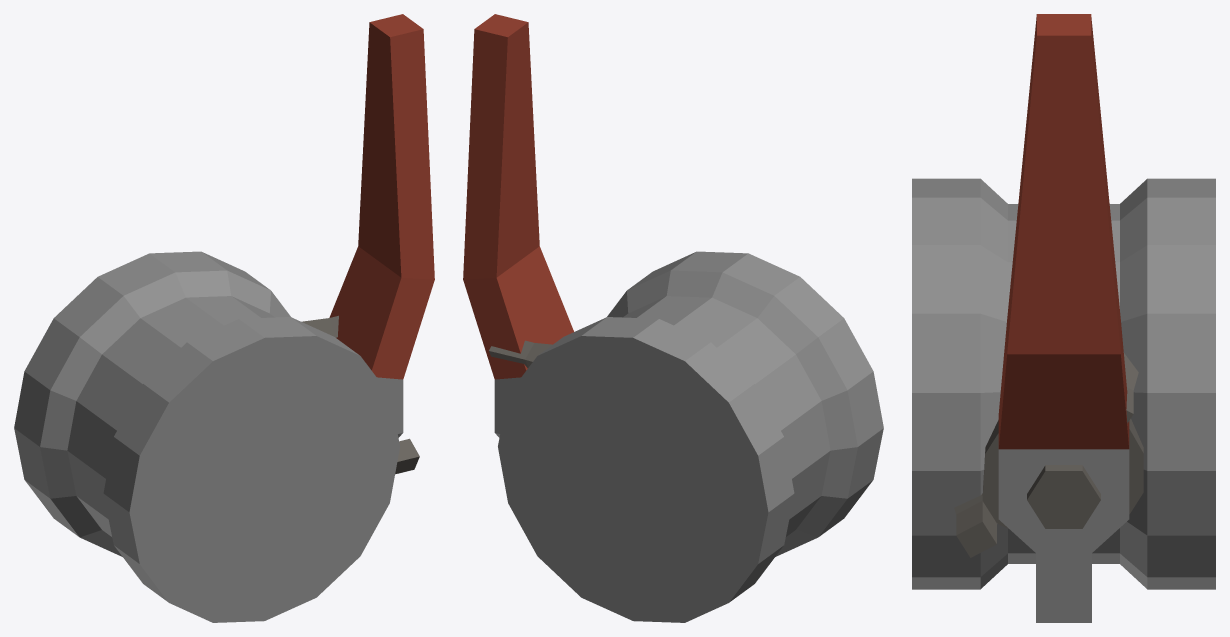
The model's file is Steam_Prop_Valve_Left.FBX.
3 views of the same model, side by side, from view 1: azimuth 30°, elevation 25°; view 2: azimuth 150°, elevation 25°; view 3: azimuth 270°, elevation 25° (orthographic). The views are drawn at different scales.
Visible parts, largest first — view 1: Valve_Left, ValveHandle; view 2: Valve_Left, ValveHandle; view 3: Valve_Left, ValveHandle.
Boxes of the visible parts, x1,y1,x2,y2 form: Valve_Left: (14,251,419,622); ValveHandle: (329,14,434,437); Valve_Left: (489,251,883,622); ValveHandle: (463,14,573,437); Valve_Left: (912,178,1215,589); ValveHandle: (998,14,1129,622).
Bounding box in the file's own units: 0.9985 × 1.42 × 0.5844.
1 material, 1 textured.
